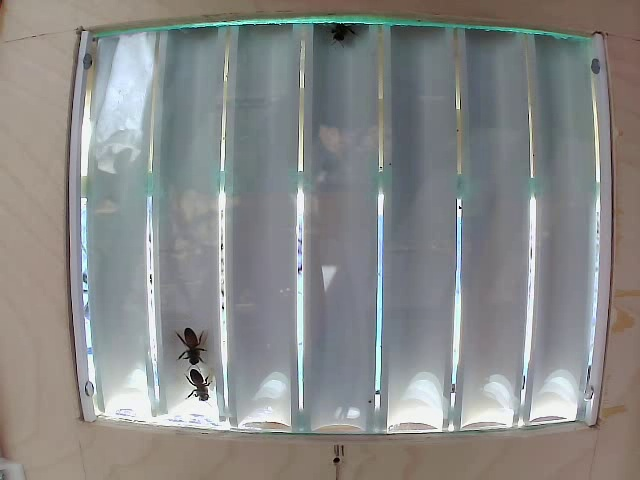bee: (172, 314, 215, 368), (180, 360, 214, 400)
